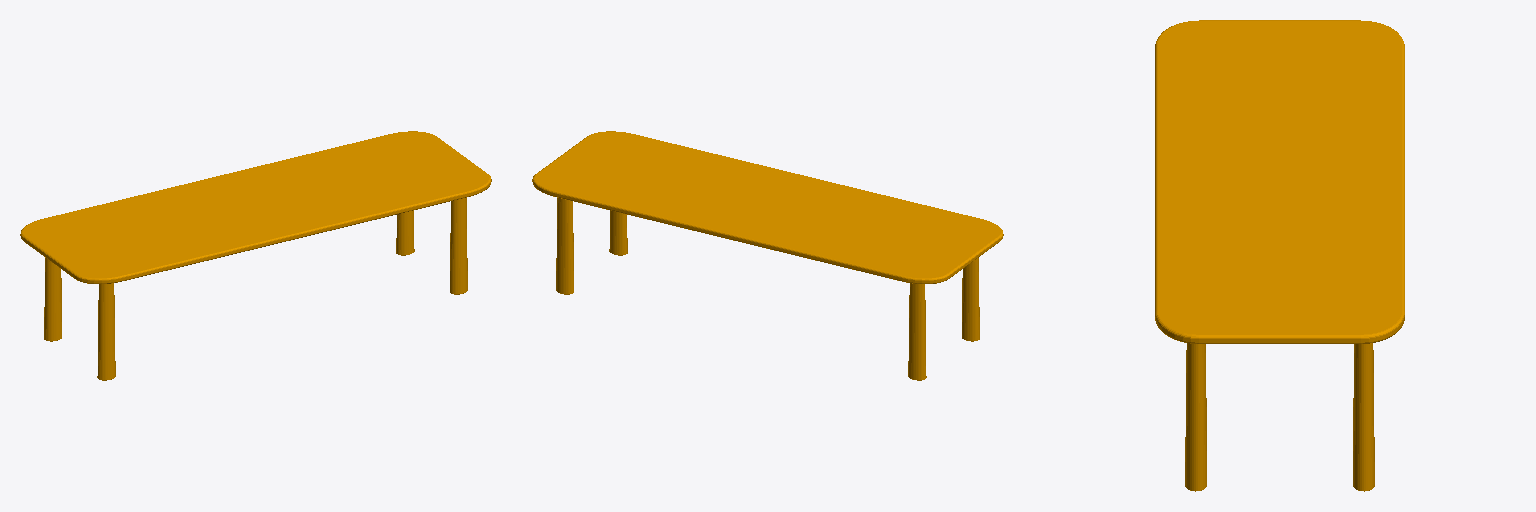
URDF robot description (table_1.3):
<?xml version="1.0"?>
		<robot name="table_1.3">
		<link name="link1">
			<inertial>
			<mass value="0.5"/>
			<inertia ixx="1" ixy="0" ixz="0" iyy="1" iyz="0" izz="1"/>
			</inertial>
			<visual>
			<geometry>
				<mesh filename="table_1.3.obj"/>
			</geometry>
			</visual>
			<collision>
			<geometry>
				<mesh filename="table_1.3.obj"/>
			</geometry>
			</collision>
		</link>
		</robot>

--- Render facts (derived) ---
Views: 3 orthographic renders of the robot side by side, from view 1: azimuth 30°, elevation 25°; view 2: azimuth 150°, elevation 25°; view 3: azimuth 270°, elevation 25°.
Model table_1.3 with 1 links and 0 joints (none), rooted at link1, posed all joints at 0.
Visible links, largest first — view 1: link1; view 2: link1; view 3: link1.
Link boxes in pixels (x1,y1,x2,y2): link1: (20,131,491,380); link1: (532,131,1003,380); link1: (1155,20,1404,491).
Bounding box of the posed robot: 3 × 1 × 0.769 m (x, y, z).
Meshes: 1 distinct files referenced, 1 mesh visuals loaded (1 OBJ).
